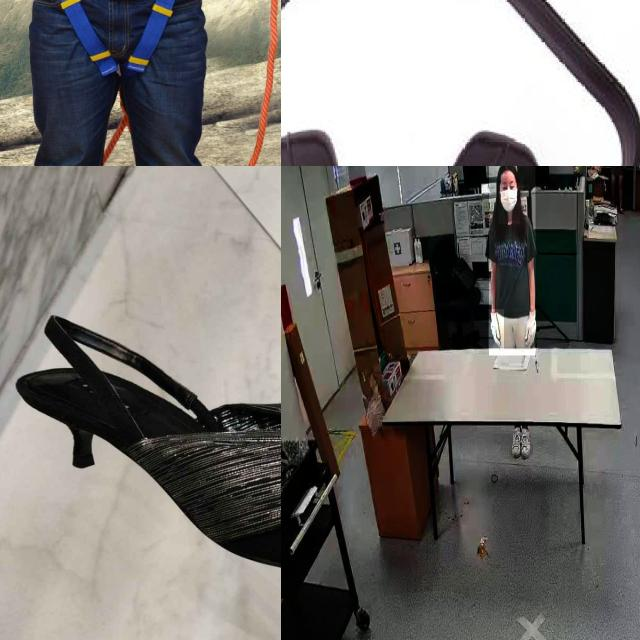Ear-protection: (281, 0, 637, 166)
Harness: (29, 0, 202, 79)
Sandals: (4, 257, 281, 627)
face_mask: (498, 183, 520, 225)
hand_glove: (488, 309, 504, 350), (524, 311, 540, 352)
head_nohelmet: (496, 166, 517, 177)
person: (489, 166, 536, 356)
shoes: (518, 425, 532, 461), (509, 426, 522, 461)
